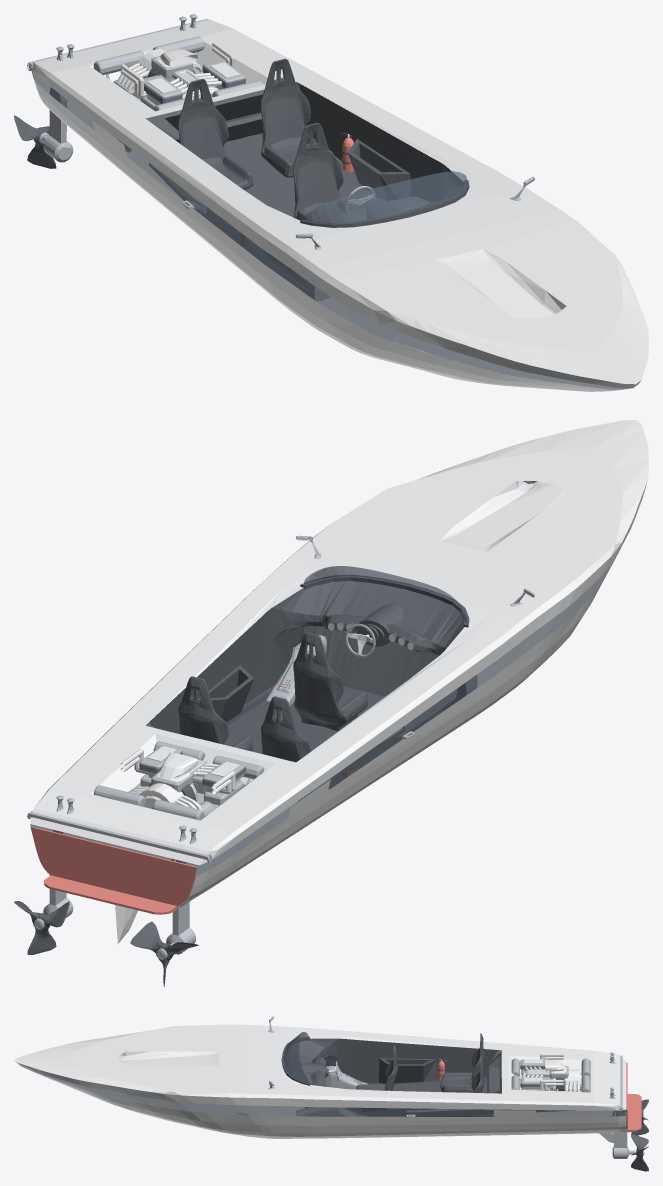
The model's file is speedboat.glb.
The picture shows the model from 3 angles, top to bottom: view 1: azimuth 30°, elevation 25°; view 2: azimuth 150°, elevation 25°; view 3: azimuth 270°, elevation 25°; orthographic projection. The views are drawn at different scales.
Parts seen in each view (by area): view 1: pCube1_phong3_0, pCube1_phong4_0, pCube1_phong9_0, pCube1_phong12_0; view 2: pCube1_phong3_0, pCube1_phong4_0, pCube1_phong12_0, pCube1_phong5_0, pCube1_phong9_0; view 3: pCube1_phong3_0, pCube1_phong4_0, pCube1_phong9_0, pCube1_phong12_0, pCube1_phong5_0.
Boxes of the visible parts, left/top/right/bottom form: pCube1_phong3_0: left=32, top=19, right=648, bottom=391; pCube1_phong4_0: left=14, top=58, right=469, bottom=298; pCube1_phong9_0: left=31, top=66, right=630, bottom=389; pCube1_phong12_0: left=27, top=14, right=534, bottom=299; pCube1_phong3_0: left=30, top=420, right=648, bottom=943; pCube1_phong4_0: left=14, top=481, right=537, bottom=986; pCube1_phong12_0: left=27, top=535, right=534, bottom=959; pCube1_phong5_0: left=30, top=670, right=354, bottom=914; pCube1_phong9_0: left=30, top=560, right=614, bottom=876; pCube1_phong3_0: left=14, top=1017, right=626, bottom=1142; pCube1_phong4_0: left=281, top=1033, right=648, bottom=1171; pCube1_phong9_0: left=25, top=1032, right=627, bottom=1116; pCube1_phong12_0: left=268, top=1016, right=644, bottom=1158; pCube1_phong5_0: left=357, top=1061, right=641, bottom=1132.
Bounding box in the file's own units: 3.54 × 2.44 × 13.25.
